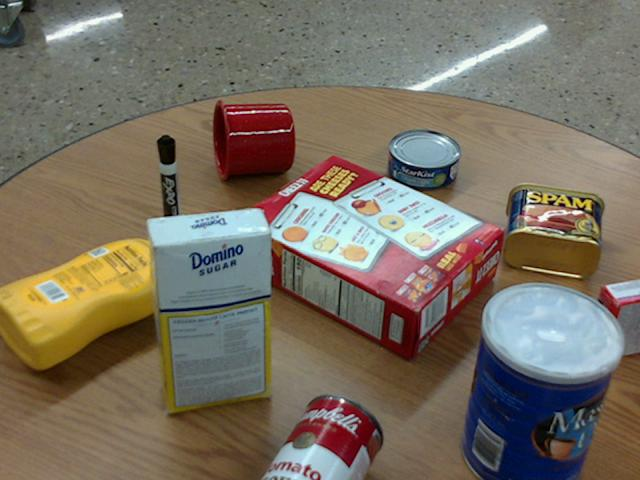cracker_box: (236, 155, 501, 354)
gelatin_box: (585, 278, 639, 360)
large_marker: (157, 134, 180, 237)
master_chef_can: (461, 283, 622, 479)
mug: (212, 99, 295, 180)
mustard_bottle: (0, 238, 193, 368)
potted_meat_can: (504, 181, 604, 278)
sugar_box: (146, 208, 269, 410)
tomato_soup_can: (262, 393, 383, 479)
tuna_fish_can: (388, 129, 460, 188)
